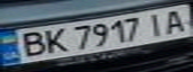1: (109, 17, 127, 44)
7: (69, 21, 93, 51), (121, 15, 145, 42)
9: (90, 20, 112, 47)
A: (160, 7, 190, 34)
B: (12, 29, 51, 58)
I: (142, 10, 172, 37)
K: (39, 26, 72, 55)
